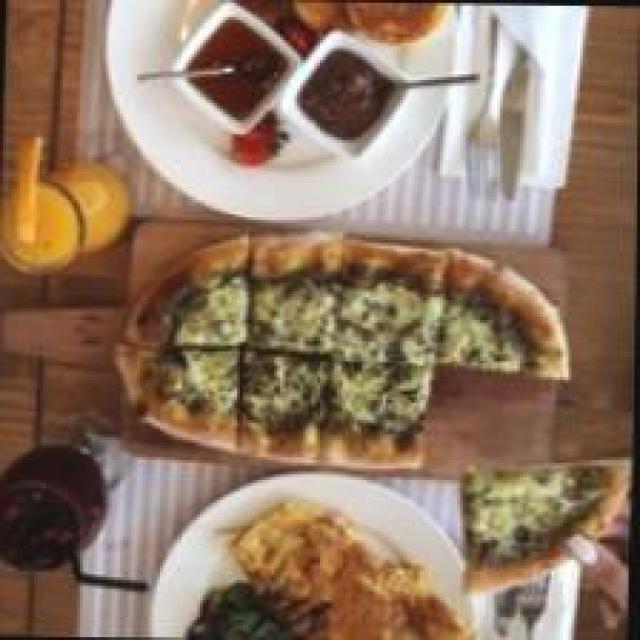Pancakes: (289, 3, 457, 60)
